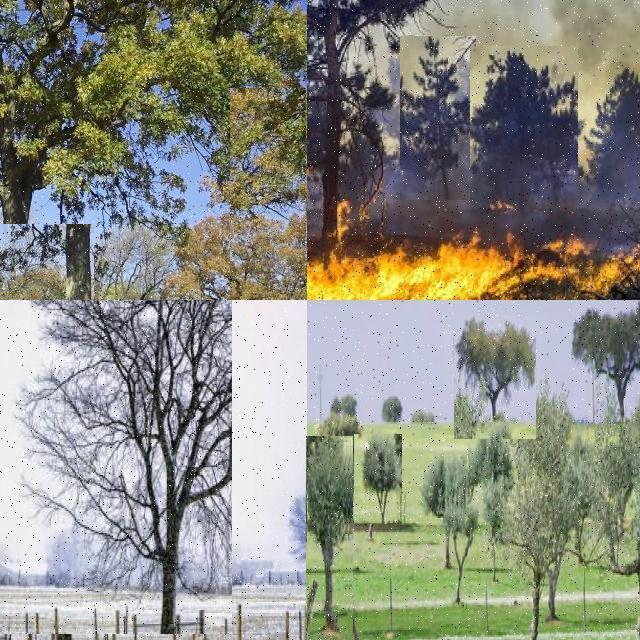tree: (1, 0, 308, 300), (0, 300, 232, 634), (307, 0, 477, 240), (490, 380, 580, 640), (470, 46, 578, 214), (572, 388, 640, 640), (230, 88, 306, 300), (400, 36, 476, 200), (454, 309, 536, 439), (568, 302, 640, 438), (307, 436, 353, 640), (96, 208, 178, 300), (0, 224, 94, 300), (308, 442, 348, 612), (306, 436, 338, 640), (306, 466, 342, 640), (428, 454, 476, 574), (354, 434, 402, 524), (285, 478, 307, 596), (307, 361, 333, 429), (308, 379, 332, 419), (378, 393, 402, 432)
